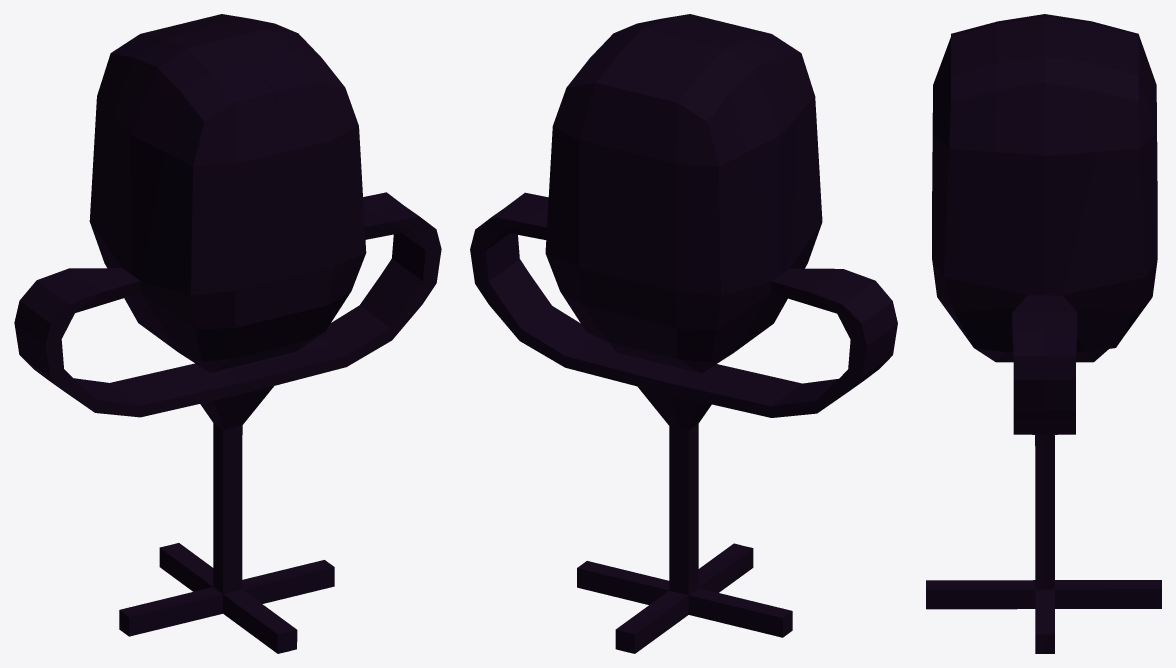
File: microphone.fbx
3 renders of one model, left to right at view 1: azimuth 30°, elevation 25°; view 2: azimuth 150°, elevation 25°; view 3: azimuth 270°, elevation 25°, orthographic.
Parts seen in each view (by area): view 1: Cube; view 2: Cube; view 3: Cube.
Part boxes in pixels (x1,y1,x2,y2): Cube: (14,14,441,653); Cube: (470,14,897,653); Cube: (926,14,1161,653).
Size of the model in its own units: 206 by 283 by 106.
